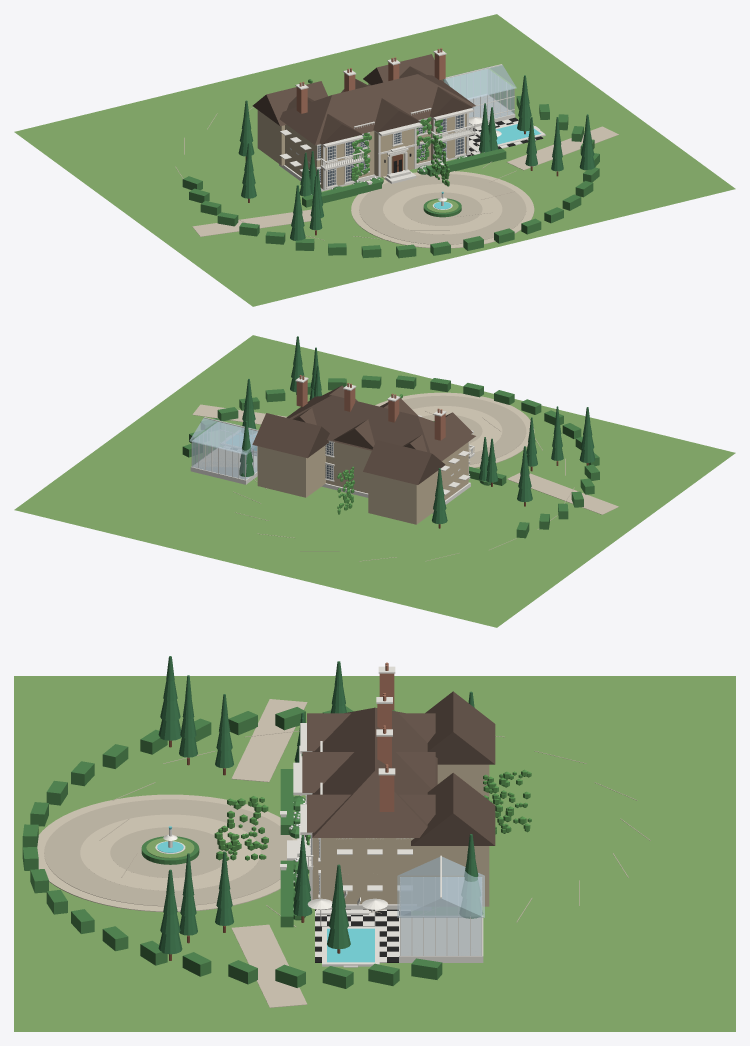
The model's file is house.glb.
3 views of the same model, one above another, from view 1: azimuth 30°, elevation 25°; view 2: azimuth 150°, elevation 25°; view 3: azimuth 270°, elevation 25° (orthographic). The views are drawn at different scales.
Visible parts, largest first — view 1: Lawn, Roof_main, Court_ring, Court_ring.001, Greenhouse_glass, Court_ring.002, Greenhouse_roof, Court, Main_body, Roof_back_L, Drive_L, Bay_C (+9 smaller); view 2: Lawn, Roof_main, Wing_back_R, Wing_back_L, Greenhouse_glass, Main_body, Court_ring, Roof_back_L, Roof_back_R, Greenhouse_roof, Greenhouse_base, Court_ring.001 (+5 smaller); view 3: Lawn, Court_ring, Roof_main, Greenhouse_glass, Court_ring.001, Main_body, Greenhouse_roof, Roof_back_R, Greenhouse_base, Roof_back_L, Court, Court_ring.002 (+11 smaller).
Part boxes in pixels (x1=…): Lawn: x1=14, y1=14, x2=735, y2=306; Roof_main: x1=279, y1=74, x2=475, y2=145; Court_ring: x1=359, y1=174, x2=526, y2=244; Court_ring.001: x1=383, y1=184, x2=502, y2=234; Greenhouse_glass: x1=444, y1=69, x2=513, y2=124; Court_ring.002: x1=403, y1=192, x2=482, y2=225; Greenhouse_roof: x1=443, y1=65, x2=516, y2=99; Court: x1=351, y1=171, x2=534, y2=248; Main_body: x1=285, y1=121, x2=430, y2=177; Roof_back_L: x1=252, y1=81, x2=327, y2=126; Drive_L: x1=192, y1=209, x2=321, y2=236; Bay_C: x1=374, y1=129, x2=414, y2=176; Lawn: x1=14, y1=335, x2=735, y2=627; Roof_main: x1=286, y1=395, x2=475, y2=461; Wing_back_R: x1=257, y1=445, x2=325, y2=497; Wing_back_L: x1=368, y1=470, x2=438, y2=524; Greenhouse_glass: x1=192, y1=422, x2=257, y2=479; Main_body: x1=326, y1=442, x2=468, y2=500; Court_ring: x1=403, y1=395, x2=526, y2=464; Roof_back_L: x1=363, y1=440, x2=445, y2=484; Roof_back_R: x1=252, y1=413, x2=329, y2=458; Greenhouse_roof: x1=189, y1=418, x2=257, y2=454; Greenhouse_base: x1=190, y1=447, x2=257, y2=484; Court_ring.001: x1=412, y1=406, x2=502, y2=452; Lawn: x1=14, y1=676, x2=735, y2=1031; Court_ring: x1=44, y1=799, x2=292, y2=906; Roof_main: x1=312, y1=707, x2=437, y2=837; Greenhouse_glass: x1=400, y1=877, x2=481, y2=955; Court_ring.001: x1=80, y1=814, x2=260, y2=890; Main_body: x1=321, y1=838, x2=416, y2=904; Greenhouse_roof: x1=397, y1=856, x2=484, y2=917; Roof_back_R: x1=411, y1=773, x2=495, y2=845; Greenhouse_base: x1=399, y1=916, x2=483, y2=962; Roof_back_L: x1=425, y1=691, x2=495, y2=764; Court: x1=37, y1=794, x2=297, y2=911; Court_ring.002: x1=110, y1=827, x2=230, y2=877.
Bounding box in the file's own units: 70 × 13.25 × 60.
